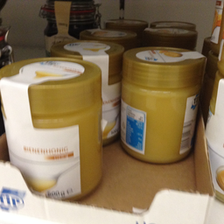honey: (1, 57, 106, 201), (121, 46, 210, 166)
